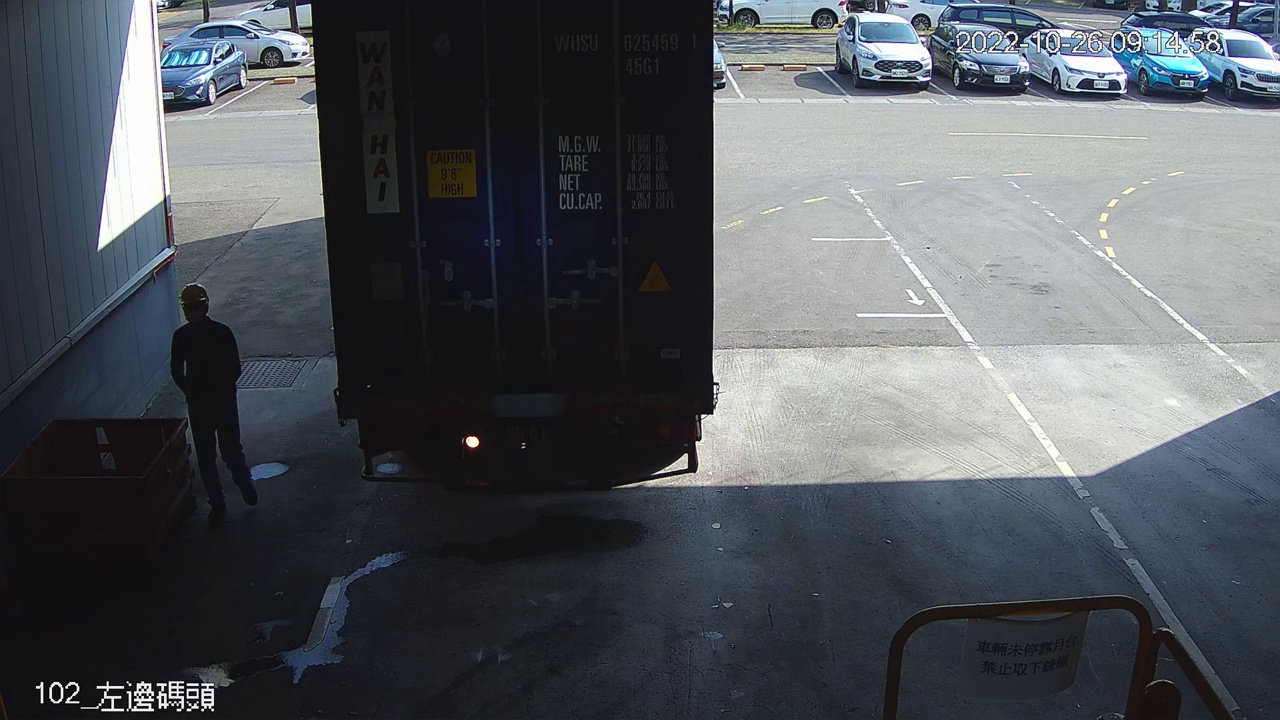container: (545, 24, 704, 84)
